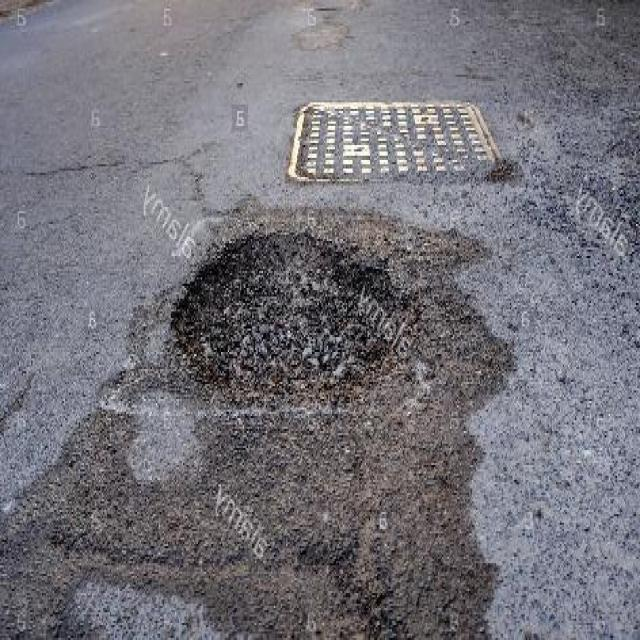Pothole: (170, 227, 427, 402)
